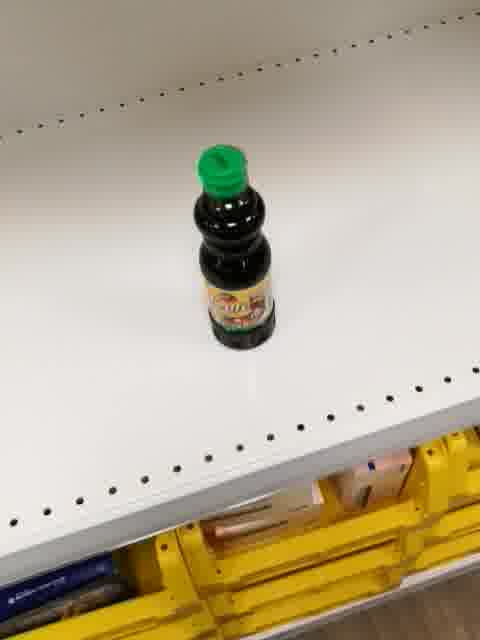cookingoil: (189, 143, 279, 353)
